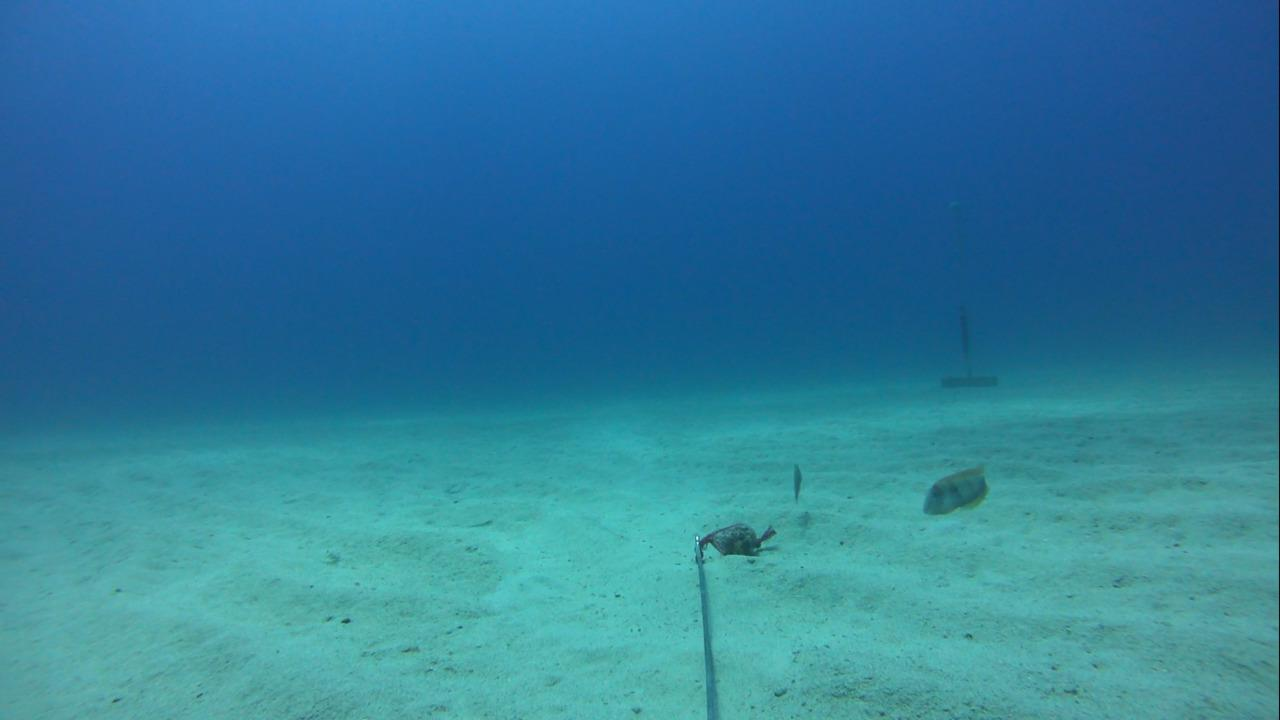raor: (919, 462, 999, 520), (781, 456, 808, 501)
